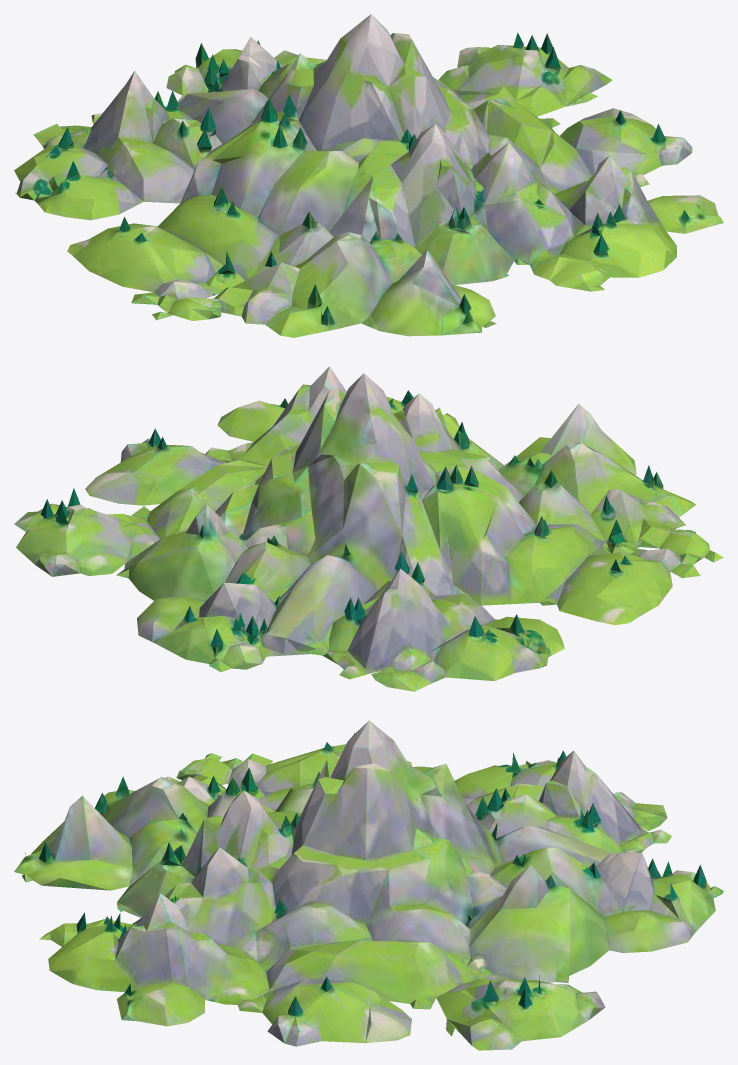
Rendered from mountain_ridge_mobile.glb.
3 renders of one model, top to bottom at view 1: azimuth 30°, elevation 25°; view 2: azimuth 150°, elevation 25°; view 3: azimuth 270°, elevation 25°, orthographic. The views are drawn at different scales.
Parts seen in each view (by area): view 1: output_unwrapped; view 2: output_unwrapped; view 3: output_unwrapped.
Boxes of the visible parts, left/top/right/bottom form: output_unwrapped: left=14, top=14, right=723, bottom=337; output_unwrapped: left=14, top=366, right=723, bottom=691; output_unwrapped: left=14, top=720, right=723, bottom=1050.
Bounding box in the file's own units: 1.86 × 0.5362 × 1.88.
Materials: 1 (1 with a texture image).
